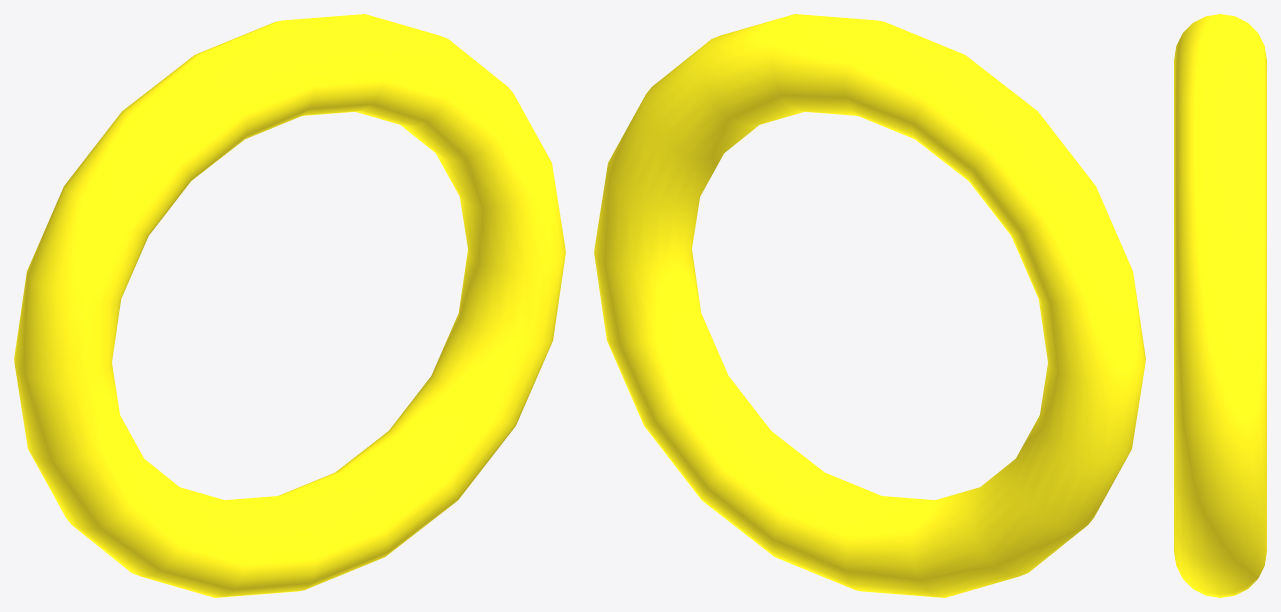
File: Ring.fbx
The picture shows the model from 3 angles, left to right: view 1: azimuth 30°, elevation 25°; view 2: azimuth 150°, elevation 25°; view 3: azimuth 270°, elevation 25°; orthographic projection. The views are drawn at different scales.
Visible parts, largest first — view 1: pTorus1; view 2: pTorus1; view 3: pTorus1.
Boxes of the visible parts, x1,y1,x2,y2 form: pTorus1: [14, 14, 565, 597]; pTorus1: [594, 14, 1145, 597]; pTorus1: [1174, 14, 1266, 597].
Size of the model in its own units: 1.9 by 1.9 by 0.3.
